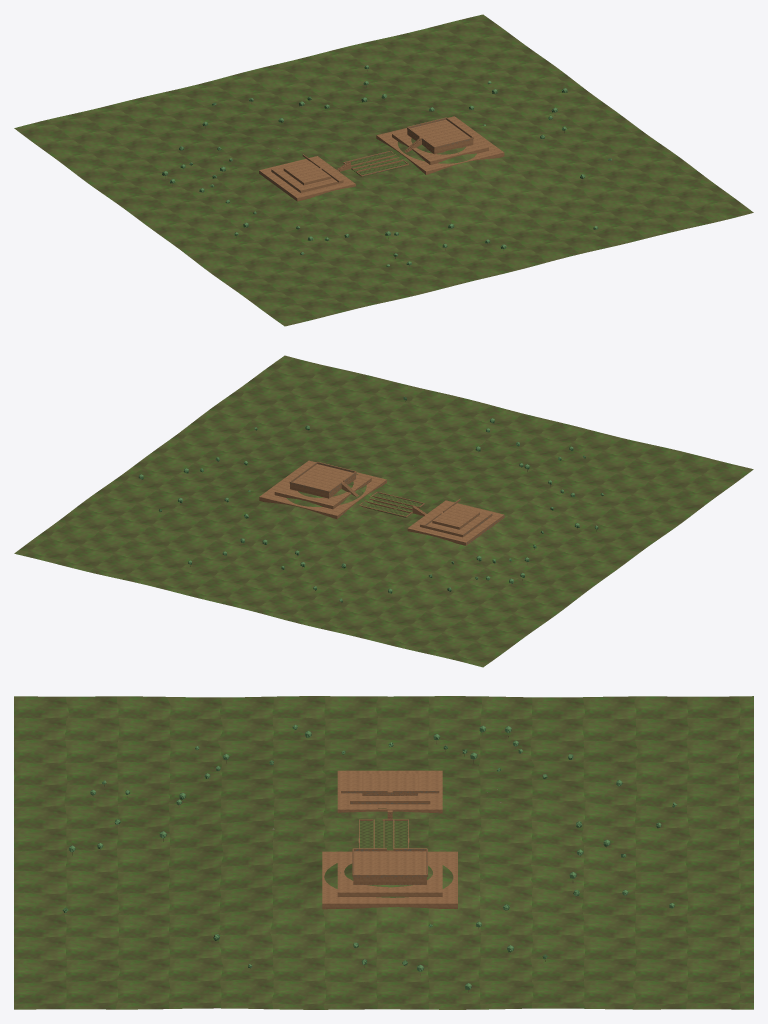
3 views of the same model, one above another, from view 1: azimuth 30°, elevation 25°; view 2: azimuth 150°, elevation 25°; view 3: azimuth 270°, elevation 25° (orthographic). The views are drawn at different scales.
Visible parts, largest first — view 1: GEO-Narihuala_LOD1_Terrain, GEO-Narihuala_LOD1_City, GEO-Narihuala_LOD1_Props; view 2: GEO-Narihuala_LOD1_Terrain, GEO-Narihuala_LOD1_City, GEO-Narihuala_LOD1_Props; view 3: GEO-Narihuala_LOD1_Terrain, GEO-Narihuala_LOD1_City, GEO-Narihuala_LOD1_Props.
Boxes of the visible parts, bbox=[...] form: GEO-Narihuala_LOD1_Terrain: bbox=[14, 14, 753, 326]; GEO-Narihuala_LOD1_City: bbox=[259, 116, 504, 201]; GEO-Narihuala_LOD1_Props: bbox=[162, 65, 611, 267]; GEO-Narihuala_LOD1_Terrain: bbox=[14, 355, 753, 667]; GEO-Narihuala_LOD1_City: bbox=[259, 460, 504, 545]; GEO-Narihuala_LOD1_Props: bbox=[138, 396, 603, 602]; GEO-Narihuala_LOD1_Terrain: bbox=[14, 696, 753, 1009]; GEO-Narihuala_LOD1_City: bbox=[322, 770, 457, 909]; GEO-Narihuala_LOD1_Props: bbox=[62, 724, 676, 992].
Size of the model in its own units: 600 by 48.65 by 600.
Materials: 6 (3 with a texture image).
